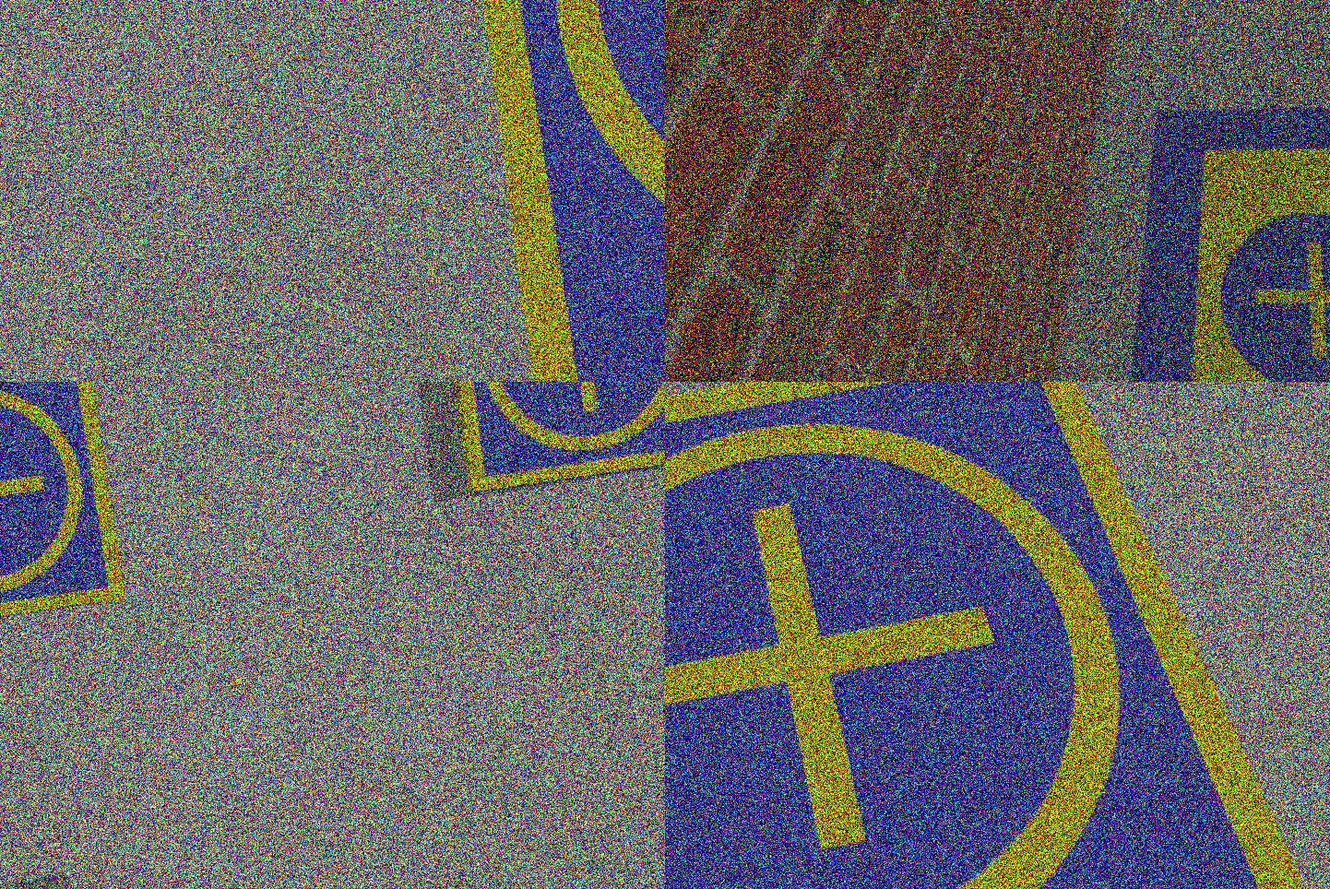large_base: (1058, 65, 1330, 382)
small_base: (666, 382, 1330, 889), (445, 1, 666, 382), (1, 382, 126, 637), (450, 382, 666, 494)
